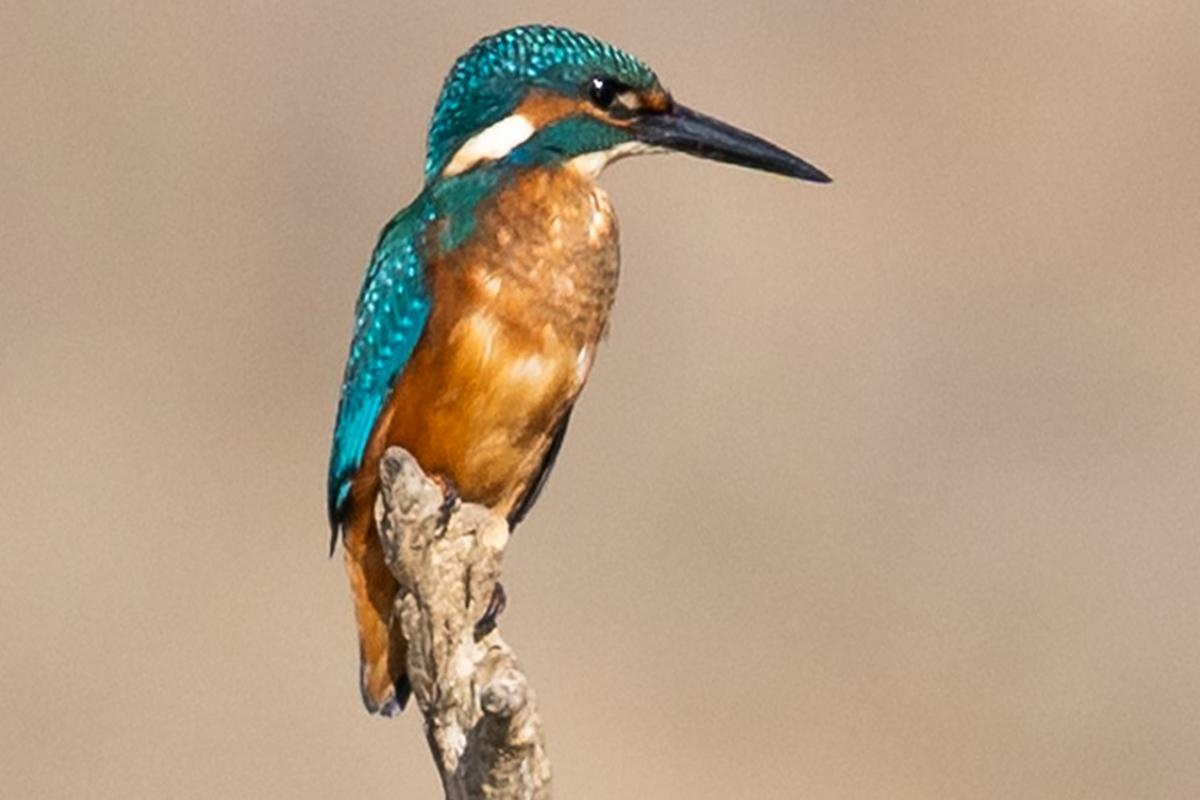kingfisher: (338, 21, 846, 638)
